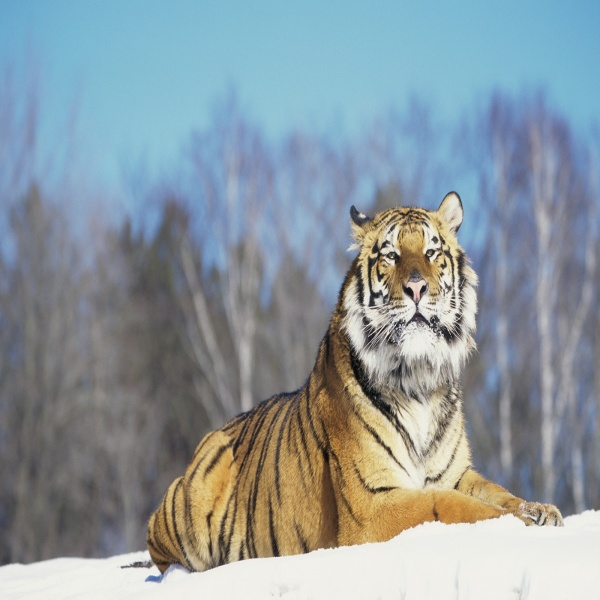Tiger: (139, 186, 567, 574)
